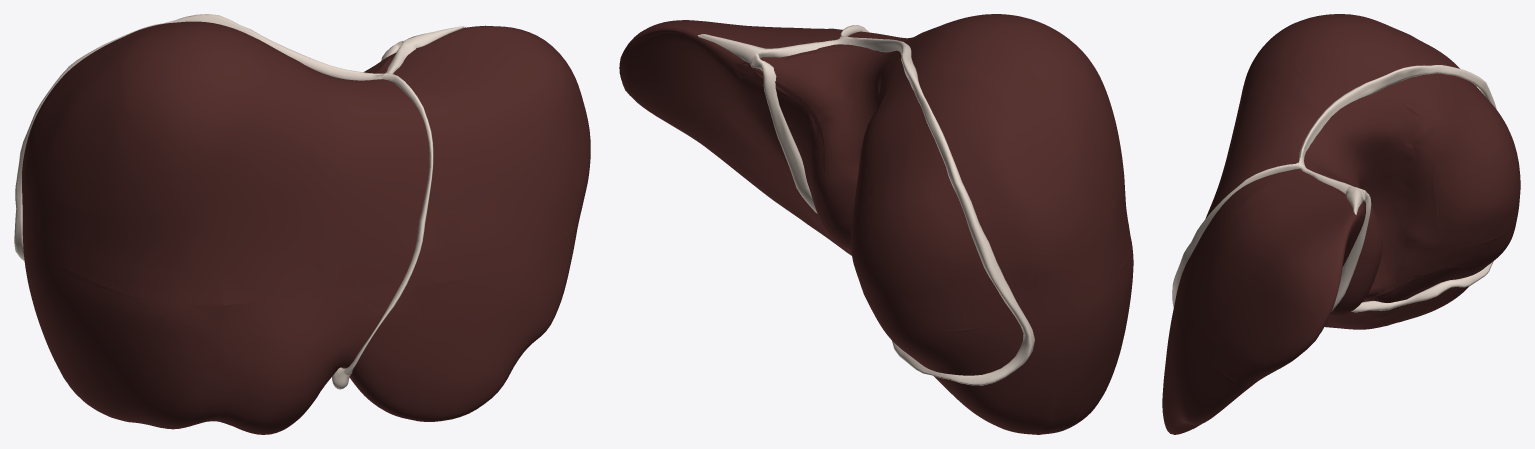
File: liver.glb
The picture shows the model from 3 angles, left to right: view 1: azimuth 30°, elevation 25°; view 2: azimuth 150°, elevation 25°; view 3: azimuth 270°, elevation 25°; orthographic projection. The views are drawn at different scales.
Parts seen in each view (by area): view 1: VH_F_gastric_impression_of_liver, VH_F_coronary_ligament_of_liver; view 2: VH_F_gastric_impression_of_liver, VH_F_coronary_ligament_of_liver; view 3: VH_F_gastric_impression_of_liver, VH_F_coronary_ligament_of_liver.
Boxes of the visible parts, <box> form: VH_F_gastric_impression_of_liver: <box>22,21,590,434</box>; VH_F_coronary_ligament_of_liver: <box>14,14,465,389</box>; VH_F_gastric_impression_of_liver: <box>619,14,1133,434</box>; VH_F_coronary_ligament_of_liver: <box>697,25,1034,385</box>; VH_F_gastric_impression_of_liver: <box>1162,14,1520,434</box>; VH_F_coronary_ligament_of_liver: <box>1172,65,1496,312</box>.
Bounding box in the file's own units: 0.2471 × 0.17 × 0.1663.
